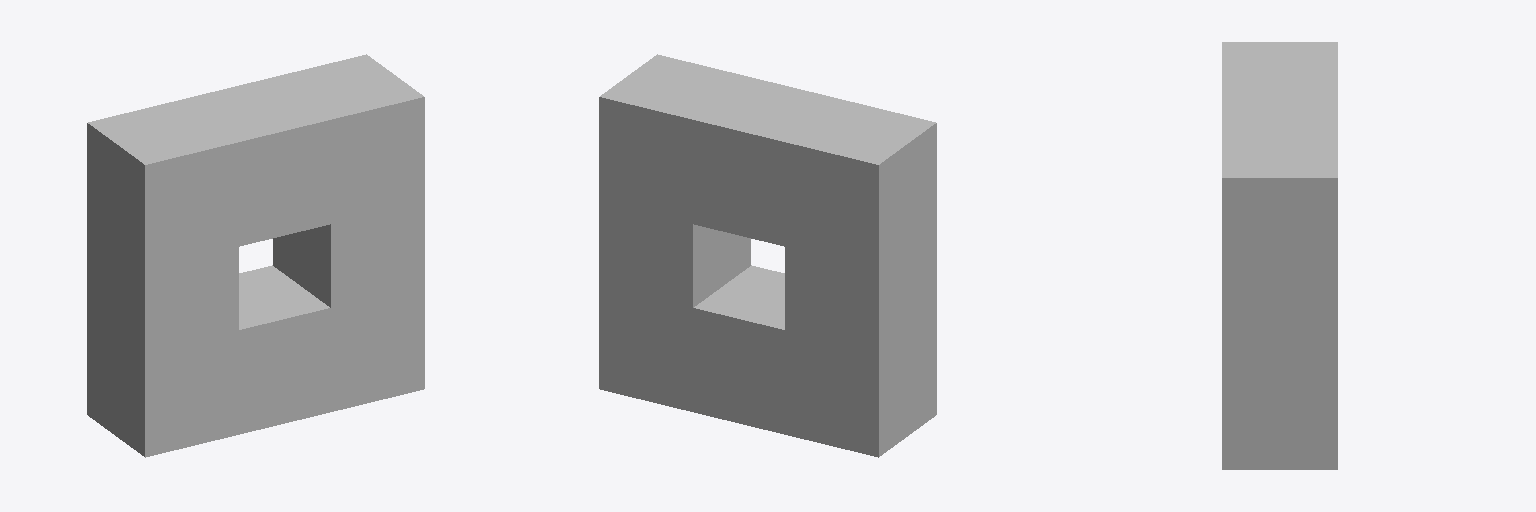
The model's file is factory_rectangular_hole_8mm_subdiv_3x.obj.
The picture shows the model from 3 angles: view 1: azimuth 30°, elevation 25°; view 2: azimuth 150°, elevation 25°; view 3: azimuth 270°, elevation 25°; orthographic projection.
Parts seen in each view (by area): view 1: mesh4, mesh2, mesh1, mesh9, mesh6; view 2: mesh5, mesh2, mesh1, mesh9, mesh6; view 3: mesh0, mesh1.
Part boxes in pixels (bbox=[...]): mesh4: bbox=[145, 97, 424, 457]; mesh2: bbox=[87, 123, 144, 456]; mesh1: bbox=[88, 54, 423, 164]; mesh9: bbox=[239, 265, 329, 329]; mesh6: bbox=[273, 224, 330, 307]; mesh5: bbox=[599, 97, 878, 457]; mesh2: bbox=[879, 123, 936, 456]; mesh1: bbox=[600, 54, 935, 164]; mesh9: bbox=[694, 265, 784, 329]; mesh6: bbox=[693, 224, 750, 307]; mesh0: bbox=[1222, 178, 1337, 469]; mesh1: bbox=[1222, 42, 1337, 177].
Bounding box in the file's own units: 0.025 × 0.025 × 0.009.